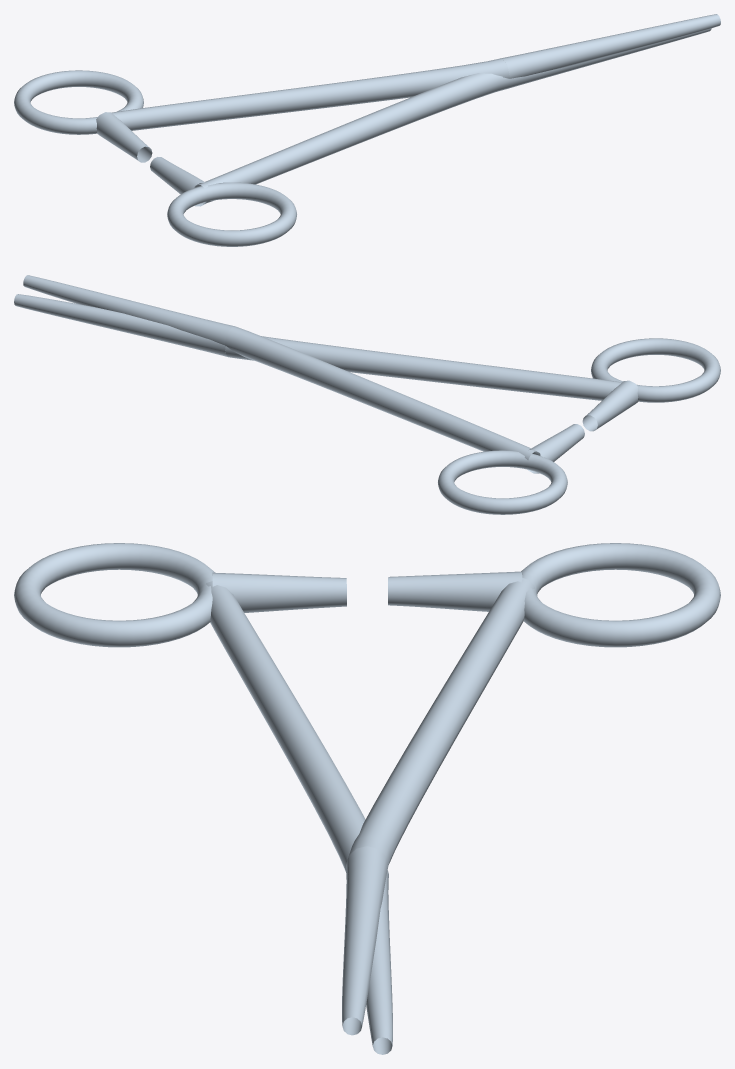
File: forceps.fbx
3 views of the same model, one above another, from view 1: azimuth 30°, elevation 25°; view 2: azimuth 150°, elevation 25°; view 3: azimuth 270°, elevation 25° (orthographic). The views are drawn at different scales.
Visible parts, largest first — view 1: BezierCurve, BezierCurve.001; view 2: BezierCurve, BezierCurve.001; view 3: BezierCurve, BezierCurve.001.
Boxes of the visible parts, bbox=[...] form: BezierCurve: bbox=[14, 14, 720, 162]; BezierCurve.001: bbox=[150, 28, 711, 246]; BezierCurve: bbox=[23, 275, 584, 514]; BezierCurve.001: bbox=[14, 294, 720, 431]; BezierCurve: bbox=[342, 543, 720, 1035]; BezierCurve.001: bbox=[14, 543, 392, 1054].
Bounding box in the file's own units: 217 × 9.87 × 133.
